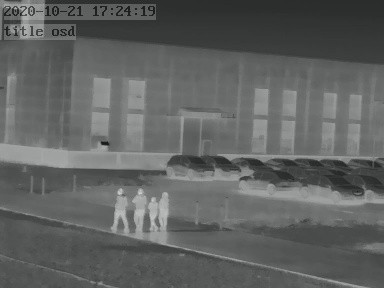person: (112, 186, 128, 233), (133, 187, 145, 234), (159, 191, 169, 231), (147, 196, 158, 230)
vehicle: (238, 169, 303, 194), (301, 173, 359, 201), (166, 152, 212, 179), (204, 153, 242, 177), (349, 174, 382, 200), (233, 155, 269, 171), (261, 155, 296, 169), (347, 156, 378, 170), (318, 156, 348, 169), (296, 155, 324, 168)
